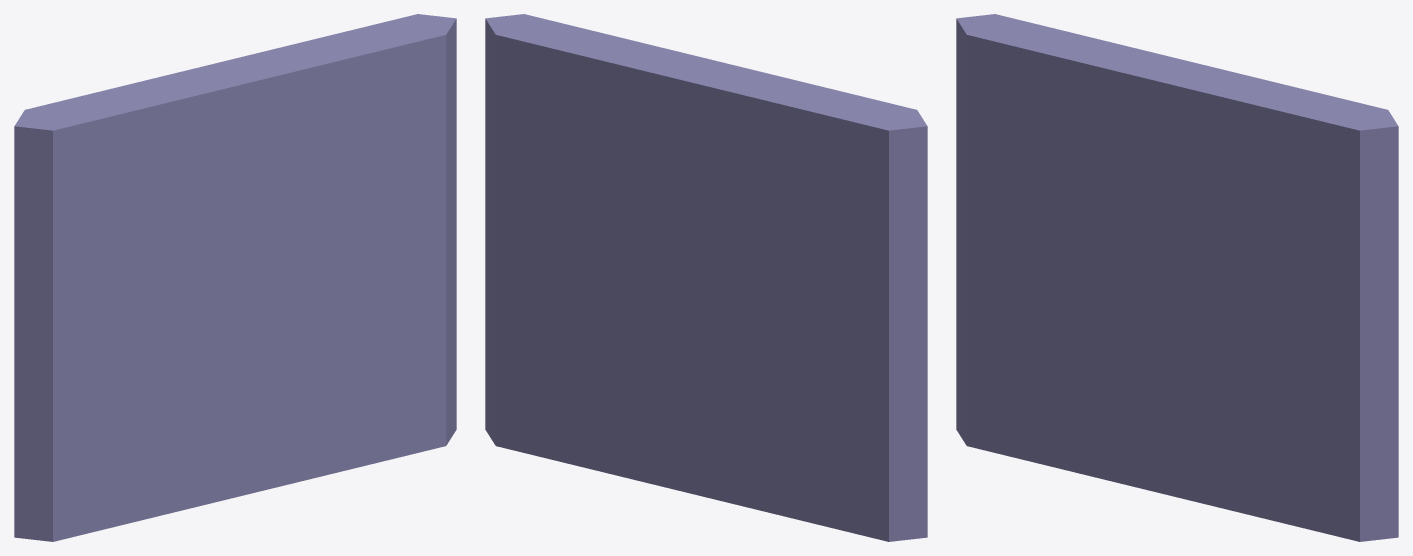
3 renders of one model, left to right at view 1: azimuth 30°, elevation 25°; view 2: azimuth 150°, elevation 25°; view 3: azimuth 330°, elevation 25°, orthographic.
Parts seen in each view (by area): view 1: mergedBlocks; view 2: mergedBlocks; view 3: mergedBlocks.
Part boxes in pixels (x1=…): mergedBlocks: x1=14, y1=14, x2=456, y2=541; mergedBlocks: x1=485, y1=14, x2=927, y2=541; mergedBlocks: x1=956, y1=14, x2=1398, y2=541.
Bounding box in the file's own units: 1.12 × 1 × 0.125.
